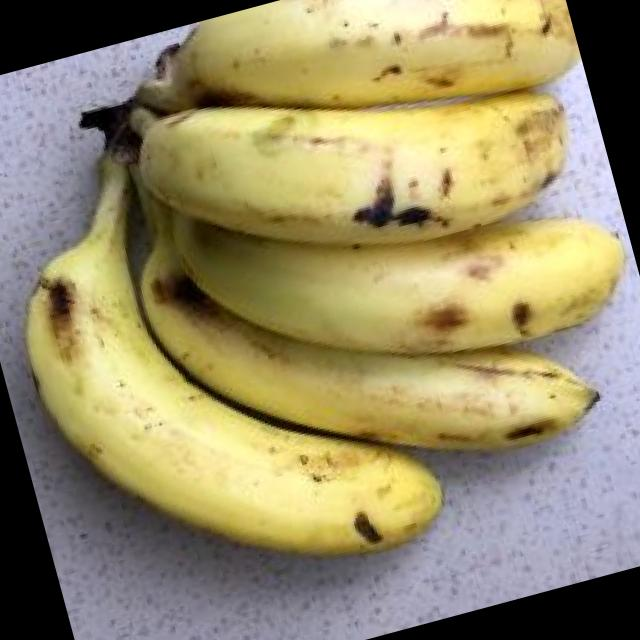banana: (119, 70, 518, 582)
